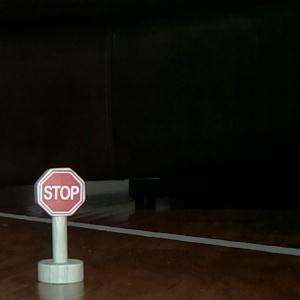stop sign: (31, 165, 89, 287)
